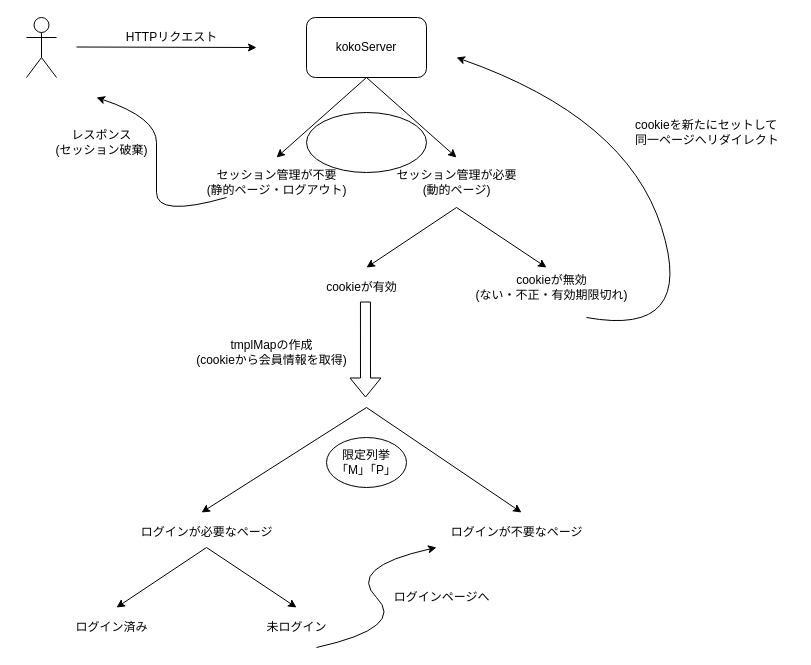
The diagram is 811 pixels wide and 665 high, and some of its shapes have lost their labels. Each missing label, with the centre of its shape:
パスの2文字目が「?」か否か: the point at 366,142
ブラウザ: the point at 41,47
